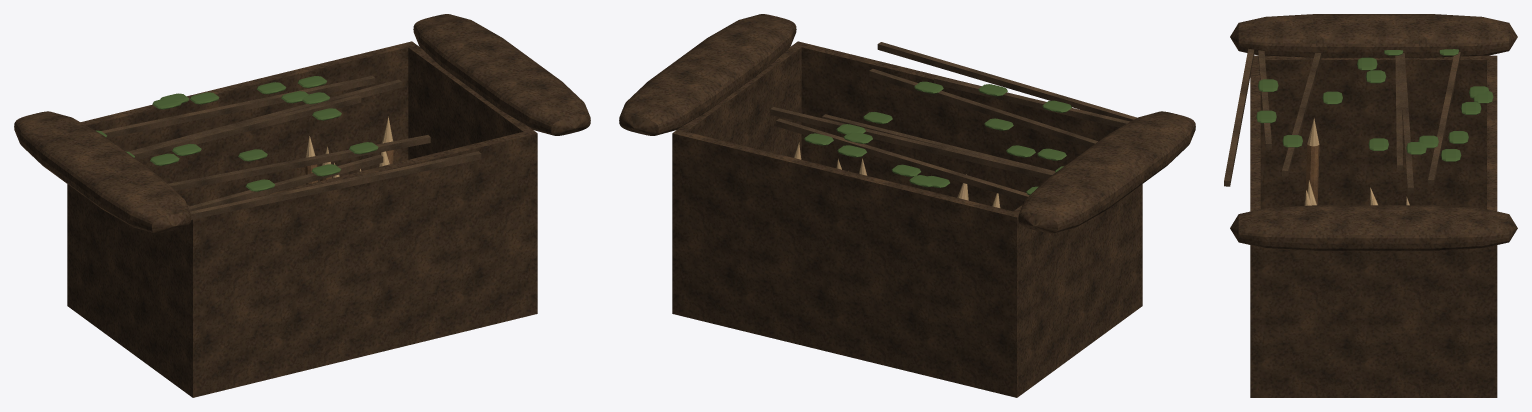
The model's file is fosso_estacas.glb.
The picture shows the model from 3 angles, left to right: view 1: azimuth 30°, elevation 25°; view 2: azimuth 150°, elevation 25°; view 3: azimuth 270°, elevation 25°; orthographic projection.
Parts seen in each view (by area): view 1: fosso_estacas_terra, fosso_estacas_galho, fosso_estacas_folha_mato; view 2: fosso_estacas_terra, fosso_estacas_galho, fosso_estacas_folha_mato; view 3: fosso_estacas_terra, fosso_estacas_galho, fosso_estacas_folha_mato, fosso_estacas_madeira_lenha, fosso_estacas_madeira_crua.
Part boxes in pixels (x1=…): fosso_estacas_terra: x1=14, y1=14, x2=590, y2=397; fosso_estacas_galho: x1=101, y1=75, x2=481, y2=219; fosso_estacas_folha_mato: x1=95, y1=76, x2=378, y2=191; fosso_estacas_terra: x1=619, y1=14, x2=1195, y2=397; fosso_estacas_galho: x1=770, y1=42, x2=1136, y2=200; fosso_estacas_folha_mato: x1=804, y1=81, x2=1071, y2=195; fosso_estacas_terra: x1=1230, y1=14, x2=1517, y2=397; fosso_estacas_galho: x1=1224, y1=48, x2=1460, y2=193; fosso_estacas_folha_mato: x1=1256, y1=49, x2=1493, y2=161; fosso_estacas_madeira_lenha: x1=1305, y1=144, x2=1319, y2=205; fosso_estacas_madeira_crua: x1=1304, y1=118, x2=1409, y2=205.
Size of the model in its own units: 2.55 by 1.05 by 1.43.
Materials: 5 (4 with a texture image).
